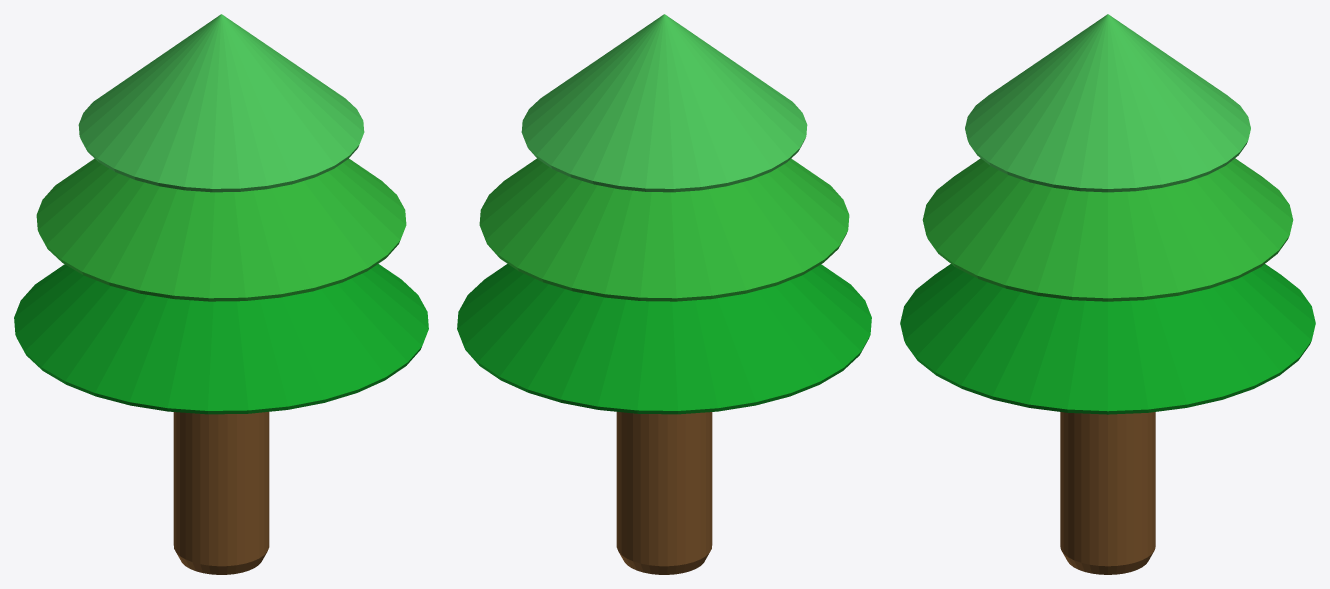
The model's file is 高松树1.fbx.
The picture shows the model from 3 angles, left to right: view 1: azimuth 30°, elevation 25°; view 2: azimuth 150°, elevation 25°; view 3: azimuth 270°, elevation 25°; orthographic projection.
Parts seen in each view (by area): view 1: Cone.002, Cone.001, Cone, Cylinder; view 2: Cone.002, Cone.001, Cone, Cylinder; view 3: Cone.002, Cone.001, Cone, Cylinder.
Boxes of the visible parts, x1,y1,x2,y2 form: Cone.002: (14, 264, 428, 414); Cone.001: (36, 158, 406, 301); Cone: (78, 14, 364, 192); Cylinder: (173, 412, 269, 574); Cone.002: (457, 264, 871, 414); Cone.001: (479, 158, 849, 301); Cone: (521, 14, 807, 192); Cylinder: (616, 412, 712, 574); Cone.002: (900, 264, 1315, 414); Cone.001: (922, 158, 1293, 301); Cone: (965, 14, 1250, 192); Cylinder: (1060, 412, 1155, 574).
Size of the model in its own units: 2.45 by 3.54 by 2.45.
